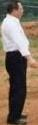boots: (7, 117, 27, 125), (0, 117, 8, 123)
